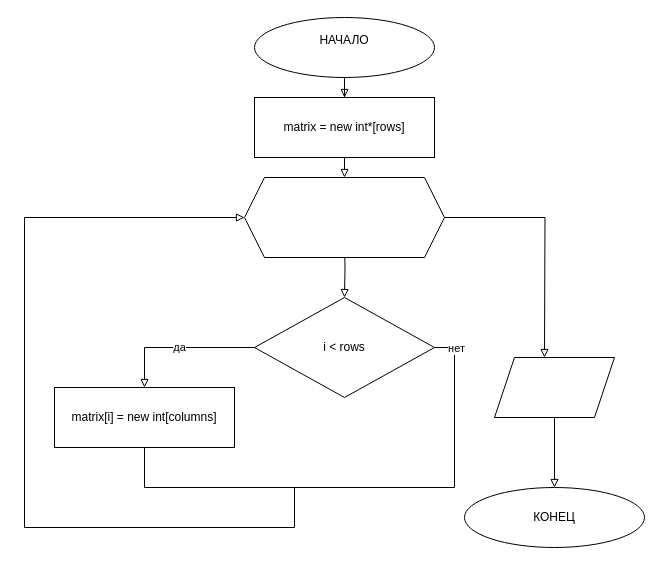
The diagram is 662 pixels wide and 565 high, and some of its shapes have lost their labels. Each missing label, with the centre of its shape:
"i=0;i++" goes at (344,217).
"matrix" goes at (554,387).
